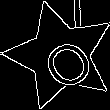O_NW: (27, 23, 93, 89)
